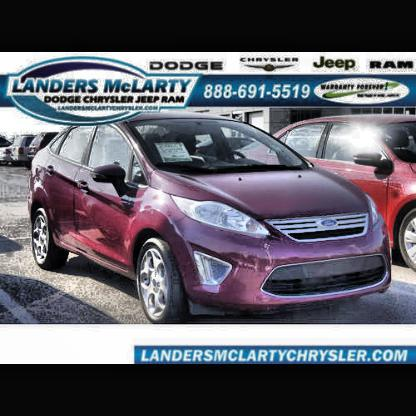Ford Fiesta Sedan 2012: (27, 108, 396, 325)
